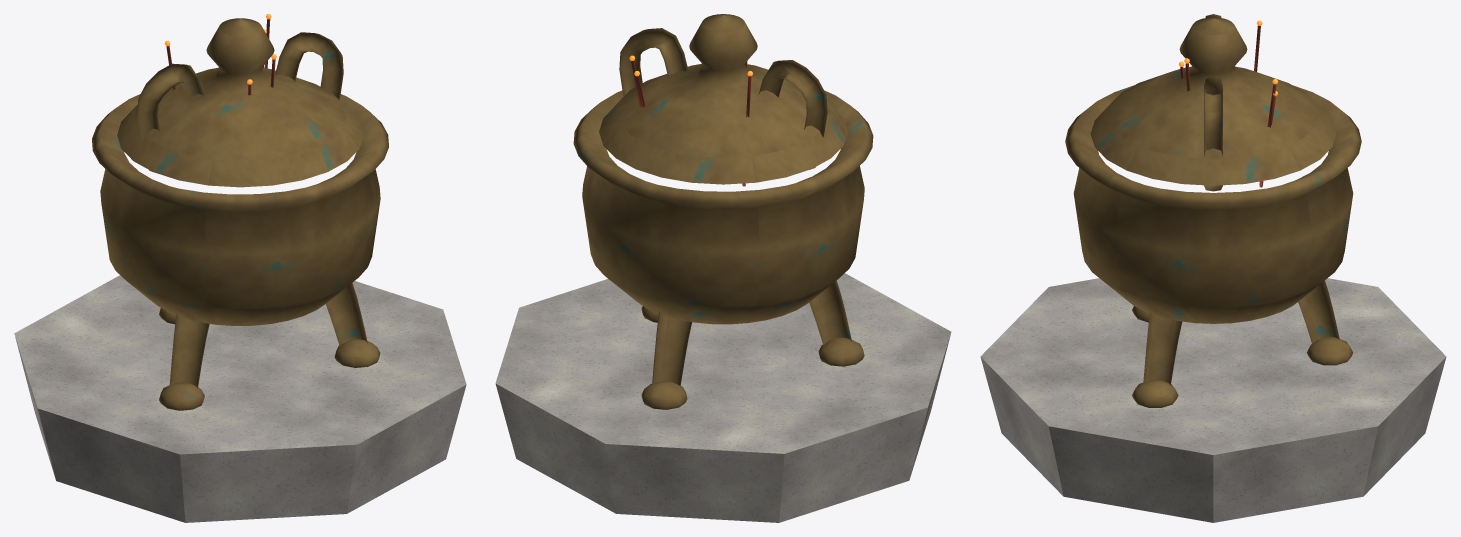
The model's file is incense_burner.glb.
3 views of the same model, side by side, from view 1: azimuth 30°, elevation 25°; view 2: azimuth 150°, elevation 25°; view 3: azimuth 270°, elevation 25° (orthographic).
Visible parts, largest first — view 1: BurnerPlinth, Cauldron; view 2: BurnerPlinth, Cauldron; view 3: BurnerPlinth, Cauldron, IncenseSticks.
Part boxes in pixels (x1,y1,x2,y2): BurnerPlinth: (14,275,466,522); Cauldron: (92,18,388,410); BurnerPlinth: (495,273,951,522); Cauldron: (573,14,873,409); BurnerPlinth: (980,278,1446,522); Cauldron: (1065,14,1361,407); IncenseSticks: (1180,25,1276,187).
Size of what is drawn, in the model's own units: 2.2 by 2.16 by 2.2.
Materials: 4 (2 with a texture image).
